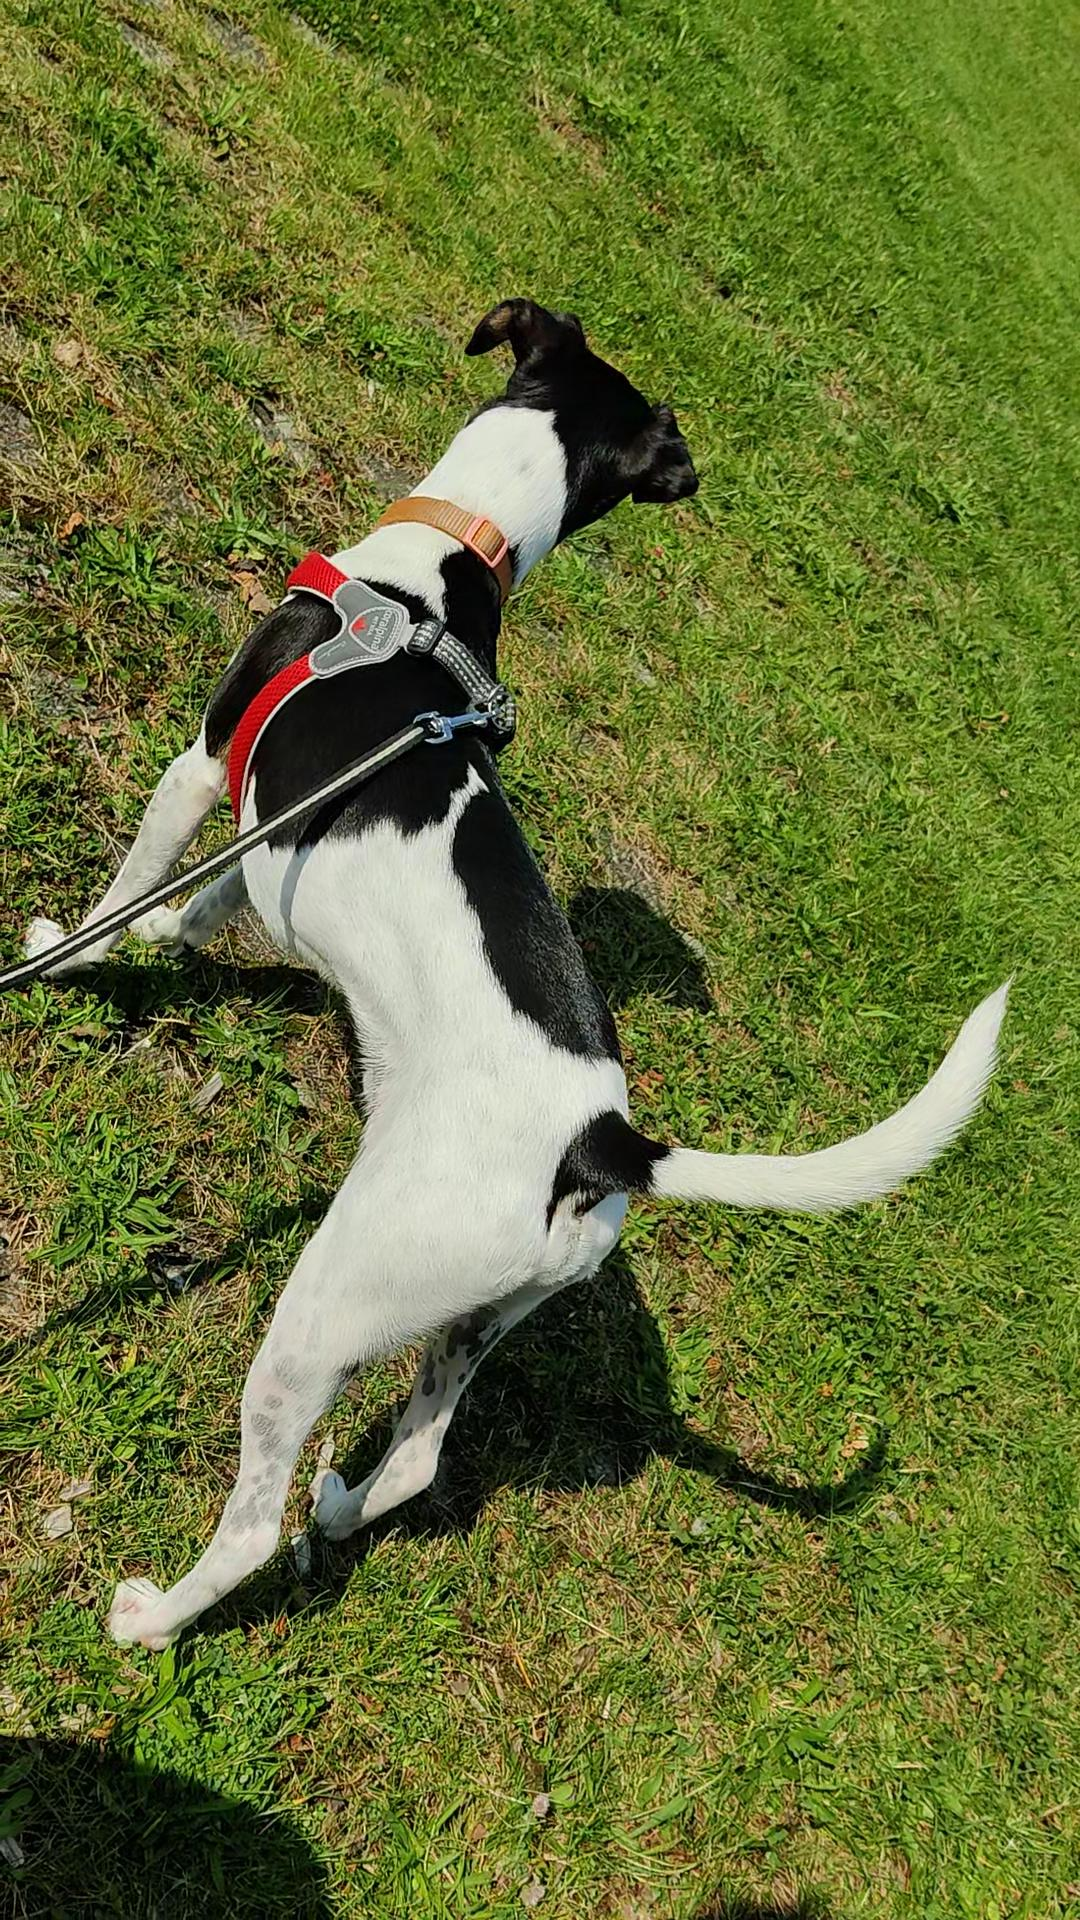Dog: (18, 287, 1019, 1658)
